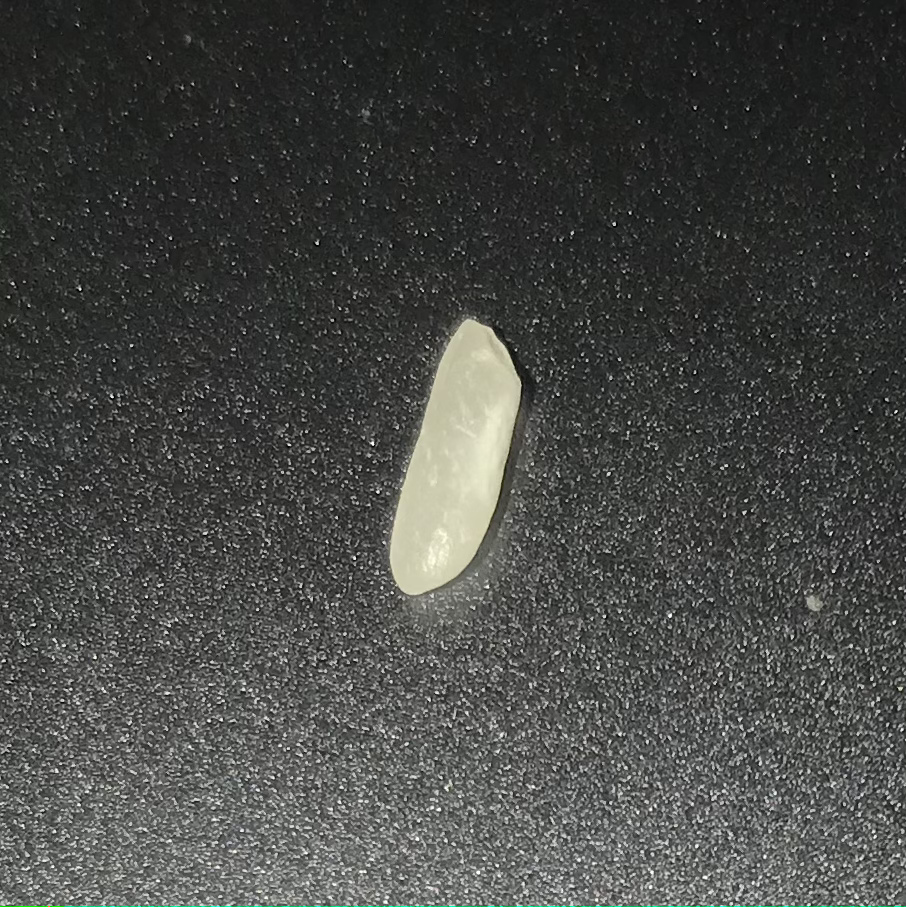Gao Thom My: (389, 306, 527, 606)
